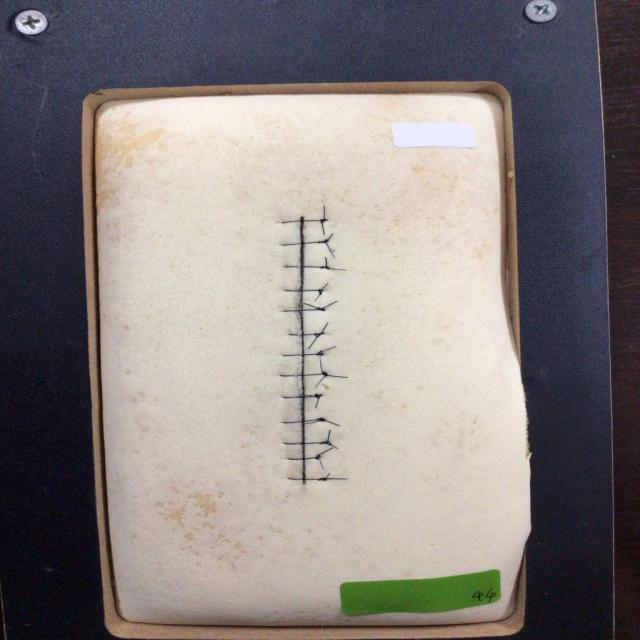knot: (317, 439, 334, 447), (315, 237, 331, 245), (312, 330, 327, 338), (316, 287, 327, 297), (314, 348, 326, 357), (317, 264, 332, 271), (318, 217, 331, 225), (312, 392, 325, 400), (320, 369, 331, 378), (315, 416, 329, 423), (314, 306, 328, 313), (313, 452, 323, 461), (317, 476, 329, 483)
leftover: (323, 240, 337, 260), (313, 374, 328, 389), (318, 299, 338, 310), (306, 334, 319, 350), (317, 446, 334, 456), (322, 419, 341, 427), (319, 345, 337, 353), (302, 302, 320, 310), (326, 266, 347, 272), (324, 373, 349, 378), (319, 322, 329, 334), (318, 353, 324, 373), (303, 419, 323, 425), (316, 456, 324, 470), (319, 282, 330, 292), (325, 428, 332, 443), (327, 442, 340, 450), (312, 292, 322, 302), (325, 232, 334, 242), (320, 220, 326, 235), (314, 396, 320, 409), (323, 477, 348, 480), (322, 204, 326, 221), (301, 393, 317, 397), (323, 472, 331, 480), (323, 256, 328, 268)
stitch: (282, 417, 324, 424), (279, 371, 327, 377), (281, 240, 329, 246), (280, 219, 327, 224), (288, 331, 325, 337), (281, 394, 321, 399), (283, 441, 329, 445), (283, 265, 329, 269), (282, 308, 325, 312), (281, 353, 323, 357), (287, 477, 328, 481), (287, 456, 321, 460), (283, 289, 324, 292)
wound: (298, 215, 308, 485)
